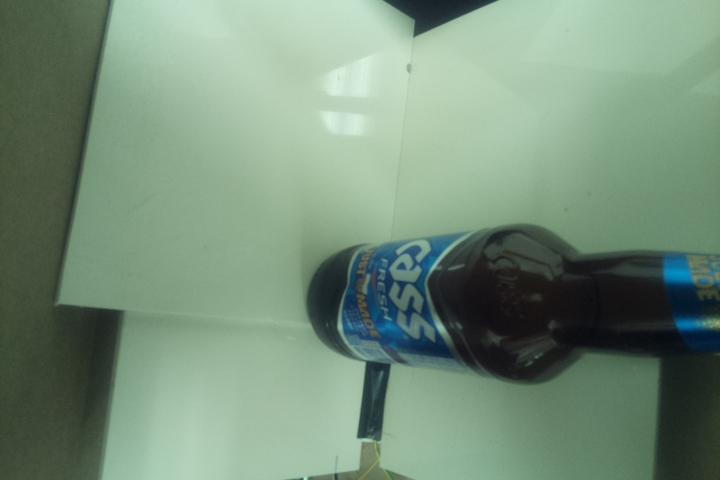makju: (304, 223, 720, 388)
